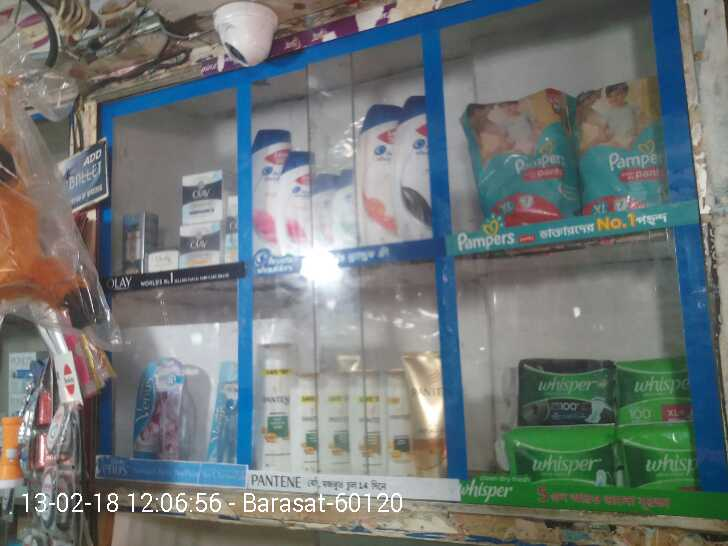venus: (136, 362, 185, 459), (210, 362, 240, 461)
